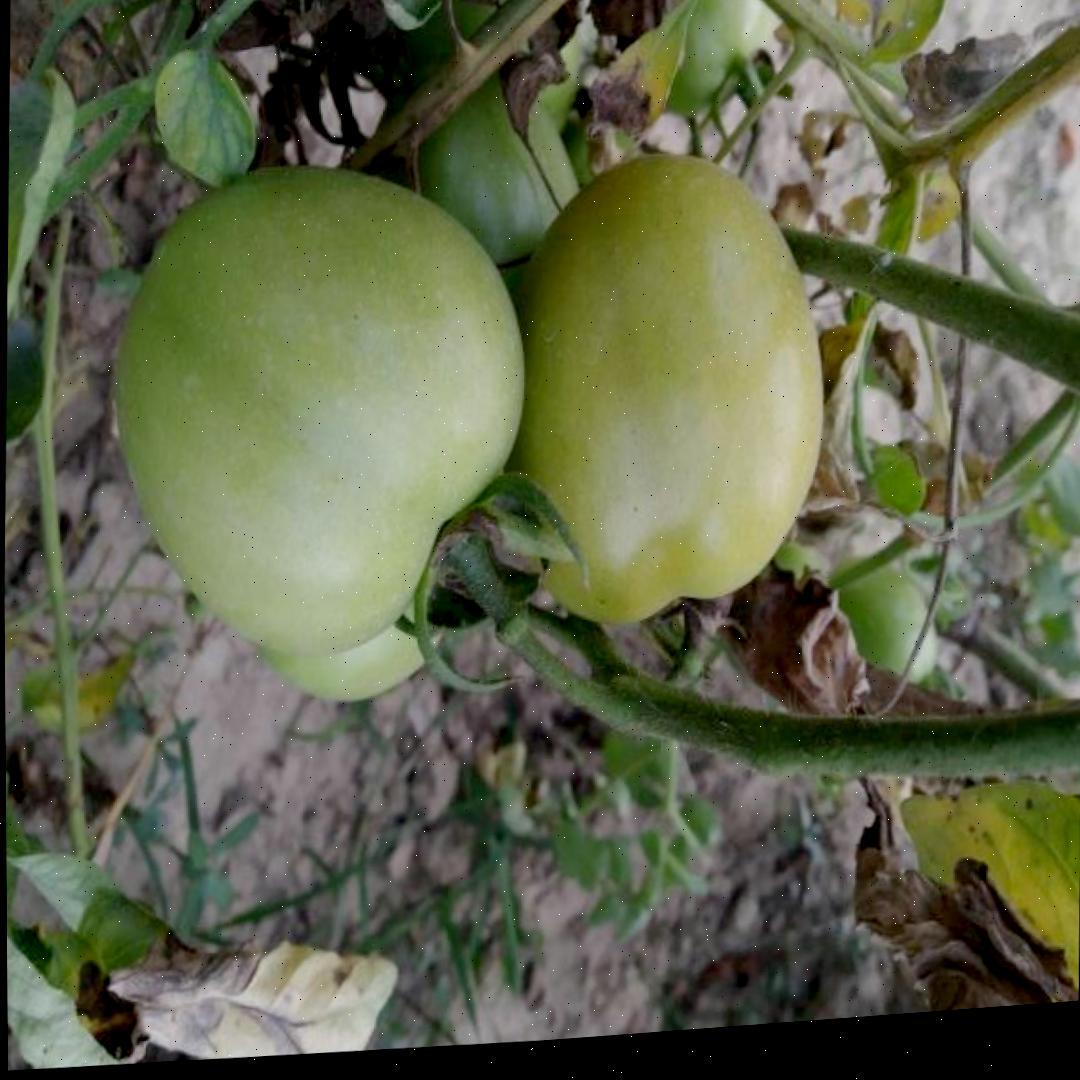mentah: (112, 139, 532, 673), (503, 134, 826, 637)
